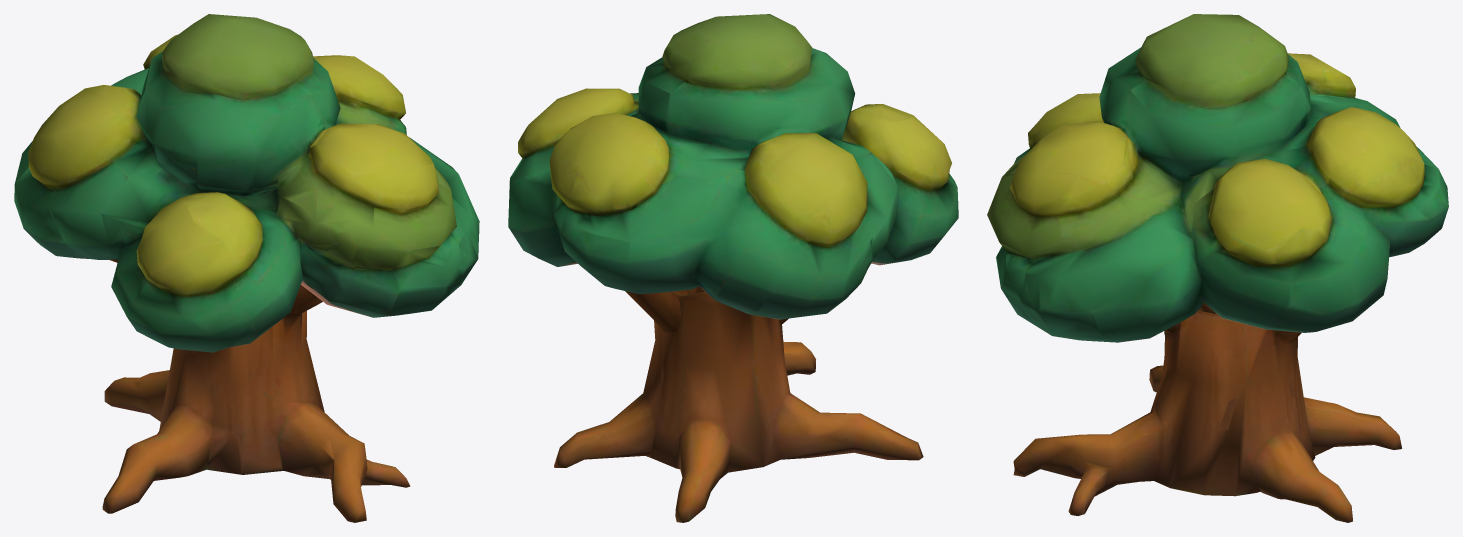
Rendered from oak-a.glb.
The picture shows the model from 3 angles, left to right: view 1: azimuth 30°, elevation 25°; view 2: azimuth 150°, elevation 25°; view 3: azimuth 270°, elevation 25°; orthographic projection. The views are drawn at different scales.
Parts seen in each view (by area): view 1: node_0; view 2: node_0; view 3: node_0.
Boxes of the visible parts, <box> form: node_0: <box>14,14,479,522</box>; node_0: <box>508,14,958,522</box>; node_0: <box>987,14,1448,522</box>.
Size of the model in its own units: 10.87 by 12.98 by 12.32.
Materials: 1 (1 with a texture image).
